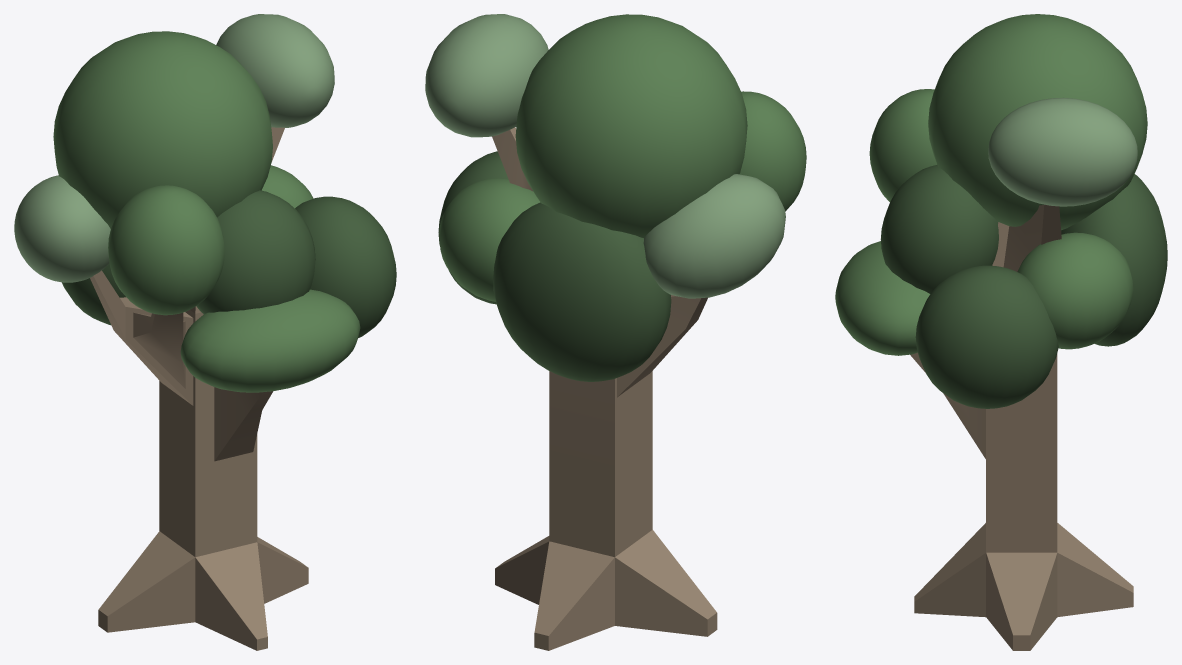
File: tree1.fbx
3 views of the same model, side by side, from view 1: azimuth 30°, elevation 25°; view 2: azimuth 150°, elevation 25°; view 3: azimuth 270°, elevation 25° (orthographic). The views are drawn at different scales.
Visible parts, largest first — view 1: pCube1, pSphere3, pSphere1, pSphere2, pSphere7, pSphere4, pSphere5, pSphere6, pSphere8, pSphere9; view 2: pSphere3, pCube1, pSphere8, pSphere6, pSphere5, pSphere9, pSphere2, pSphere4; view 3: pCube1, pSphere3, pSphere4, pSphere5, pSphere7, pSphere9, pSphere8, pSphere1, pSphere2.
Part boxes in pixels (x1,y1,x2,y2): pCube1: (90, 127, 308, 650); pSphere3: (53, 31, 272, 228); pSphere1: (180, 289, 360, 392); pSphere2: (108, 185, 224, 315); pSphere7: (196, 190, 315, 313); pSphere4: (295, 196, 396, 337); pSphere5: (216, 14, 334, 127); pSphere6: (14, 175, 110, 282); pSphere8: (62, 263, 125, 325); pSphere9: (261, 165, 313, 208); pSphere3: (515, 14, 747, 237); pCube1: (492, 127, 717, 650); pSphere8: (493, 202, 671, 381); pSphere6: (643, 174, 785, 298); pSphere5: (425, 14, 548, 137); pSphere9: (439, 178, 540, 301); pSphere2: (740, 91, 806, 211); pSphere4: (438, 151, 508, 304); pCube1: (910, 204, 1133, 650); pSphere3: (928, 14, 1147, 230); pSphere4: (915, 265, 1058, 408); pSphere5: (988, 97, 1137, 206); pSphere7: (880, 165, 998, 293); pSphere9: (1017, 232, 1133, 349); pSphere8: (1061, 174, 1167, 346); pSphere1: (835, 241, 930, 355); pSphere2: (869, 89, 936, 201).
Size of the model in its own units: 12.25 by 19.94 by 10.57.
